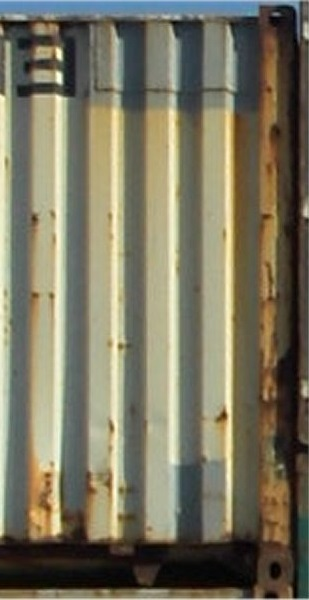container_no_door: (1, 4, 290, 582)
